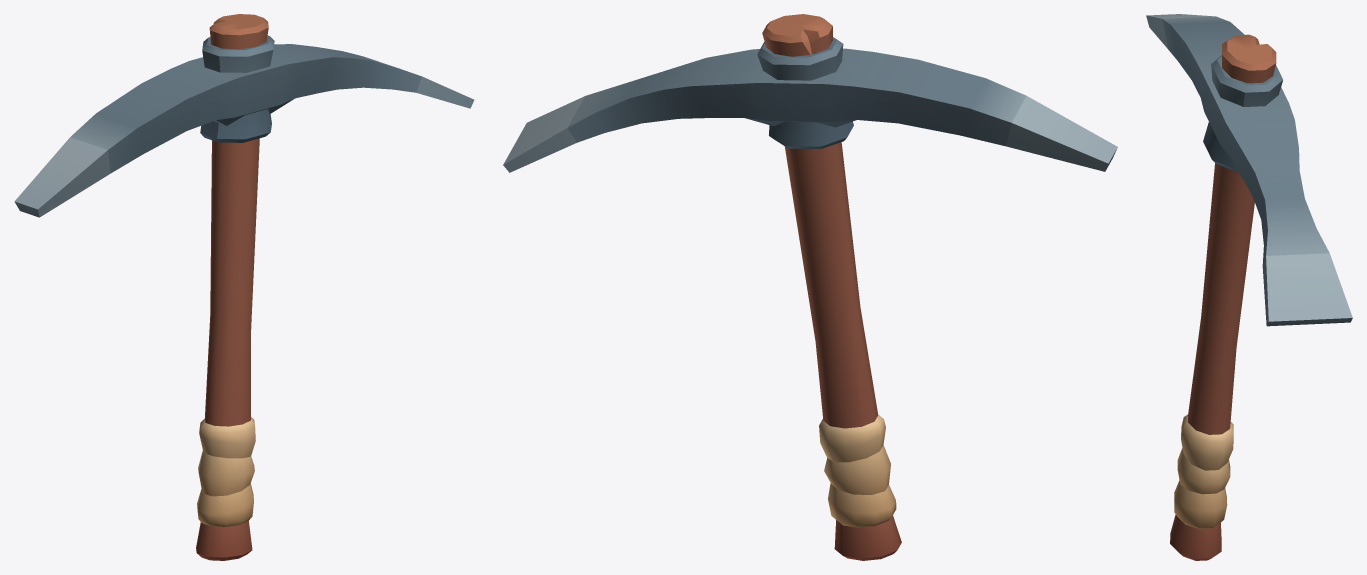
File: pickaxe.glb
The picture shows the model from 3 angles, left to right: view 1: azimuth 30°, elevation 25°; view 2: azimuth 150°, elevation 25°; view 3: azimuth 270°, elevation 25°; orthographic projection. The views are drawn at different scales.
Parts seen in each view (by area): view 1: pickaxe; view 2: pickaxe; view 3: pickaxe.
Boxes of the visible parts, left/top/right/bottom form: pickaxe: left=14, top=14, right=474, bottom=560; pickaxe: left=503, top=14, right=1117, bottom=560; pickaxe: left=1146, top=14, right=1352, bottom=560.
Bounding box in the file's own units: 0.4182 × 0.4039 × 0.1443.
1 material, 1 textured.
